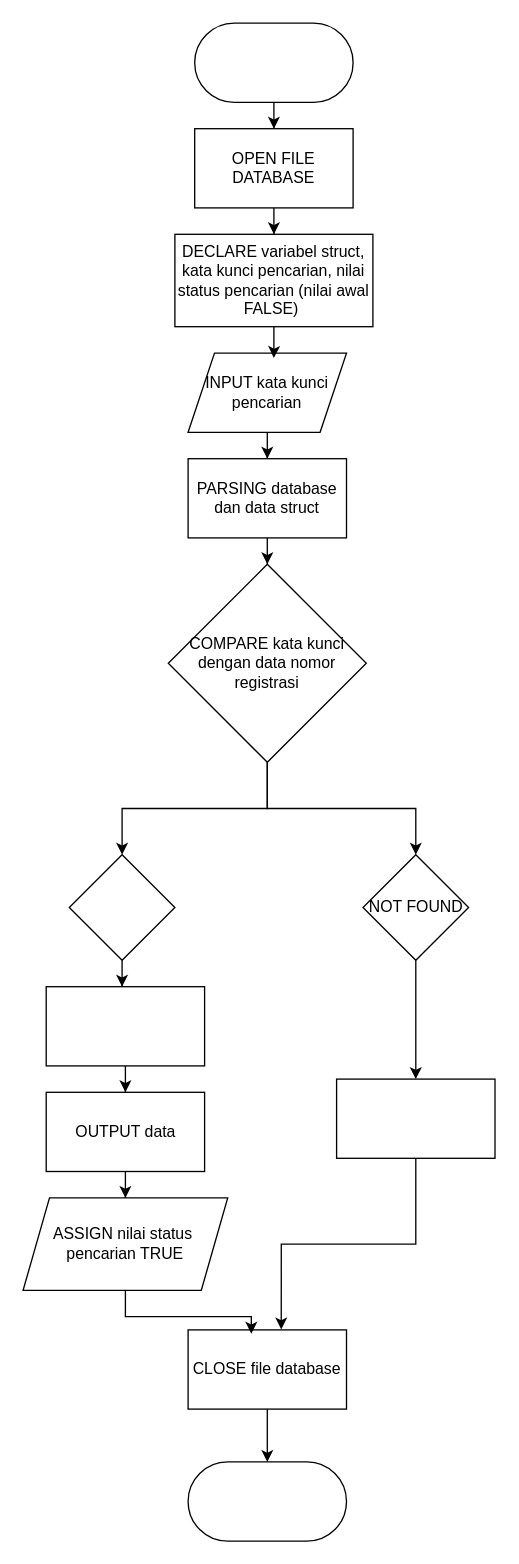
This 519x1564 diagram has some shape labels left out. The box of each missing label's shape, as (x1, y1, x2, y2) in pixels:
END: (187, 1461, 346, 1541)
Equals / FOUND: (68, 853, 175, 960)
OUTPUT pesan data ditemukan: (45, 985, 205, 1066)
OUTPUT pesan data tidak ditemukan: (335, 1078, 495, 1158)
START: (193, 22, 353, 102)
